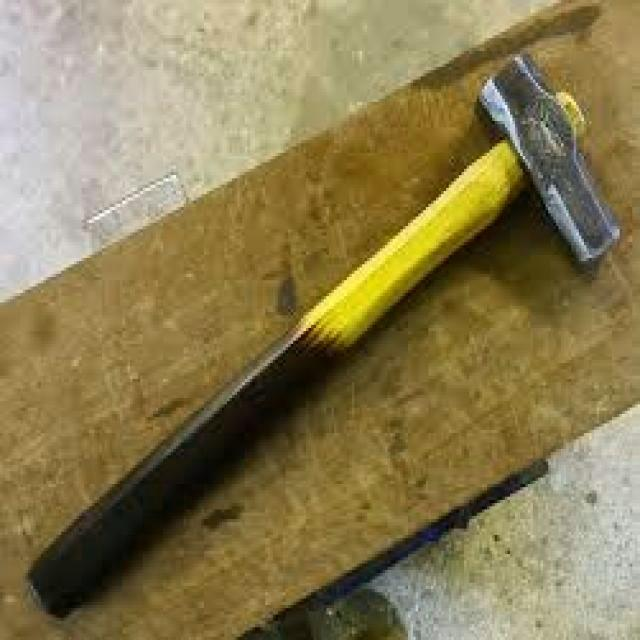hammer: (16, 45, 626, 624)
